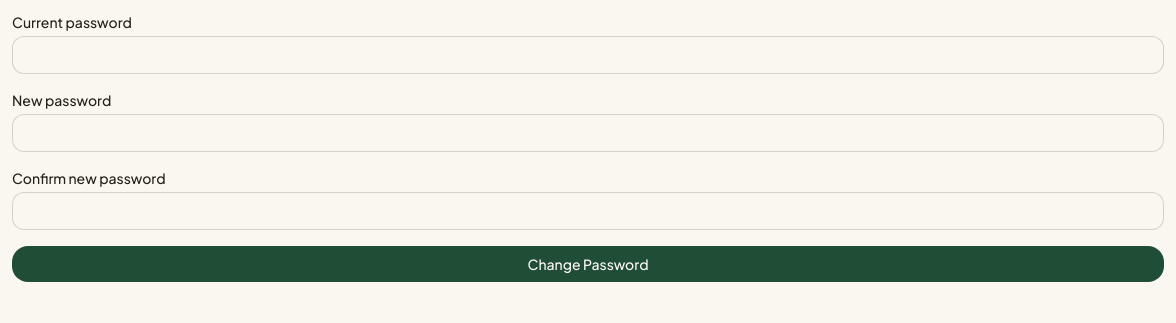
Test: ChangePasswordForm › rejects a new password missing a symbol
Type "CurrentPass@123" into the password field labelled "Current password" at (588, 55), box [12,36,1164,74]
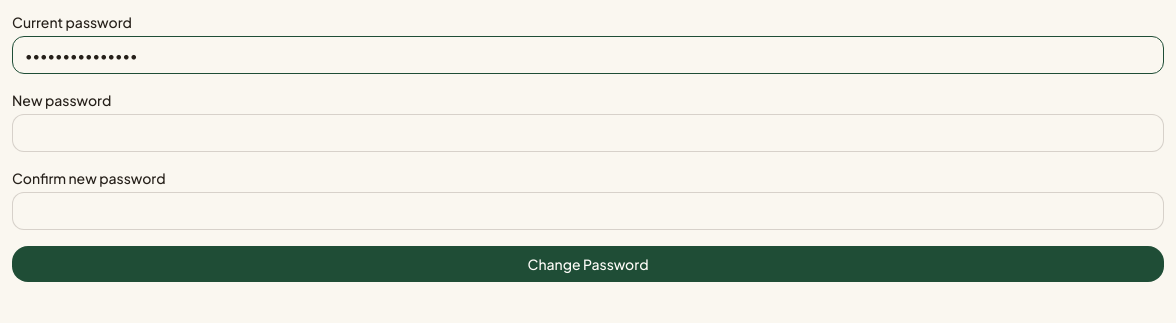
Type "NoSymbolPassword123" into the password field labelled "New password" at (588, 133), box [12,114,1164,152]
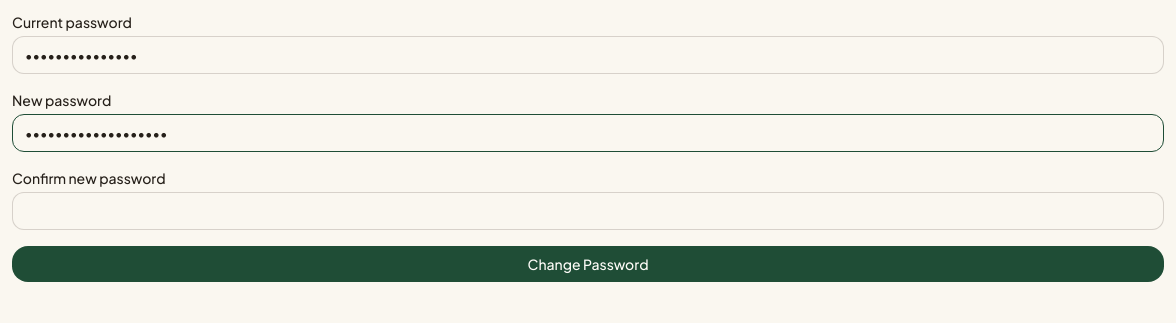
Type "NoSymbolPassword123" into the password field labelled "Confirm new password" at (588, 211), box [12,192,1164,230]
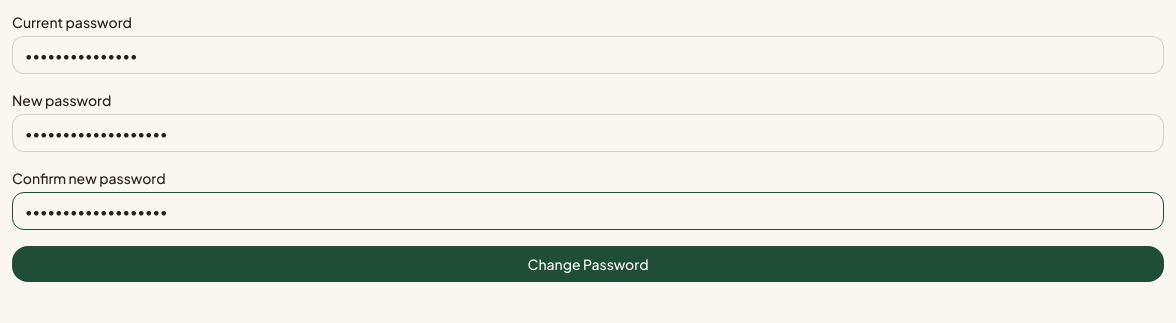
Click the button "Change Password" at (588, 264), box [12,246,1164,282]
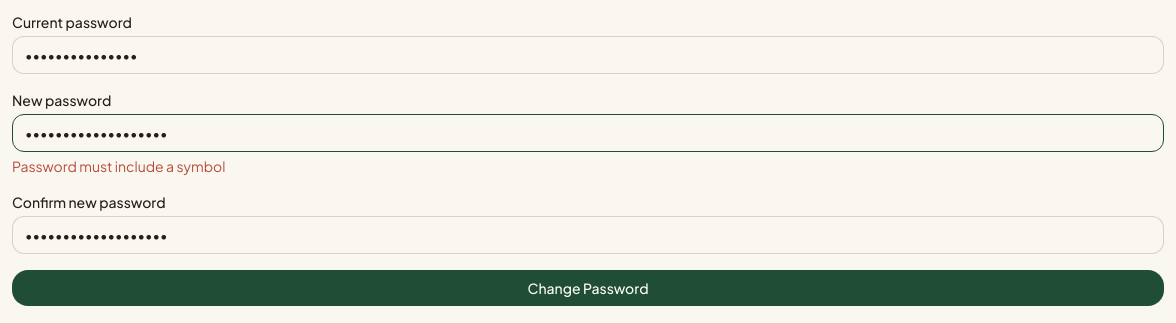
Expected: the text "Password must include a symbol" is shown, [12,157,225,175]
